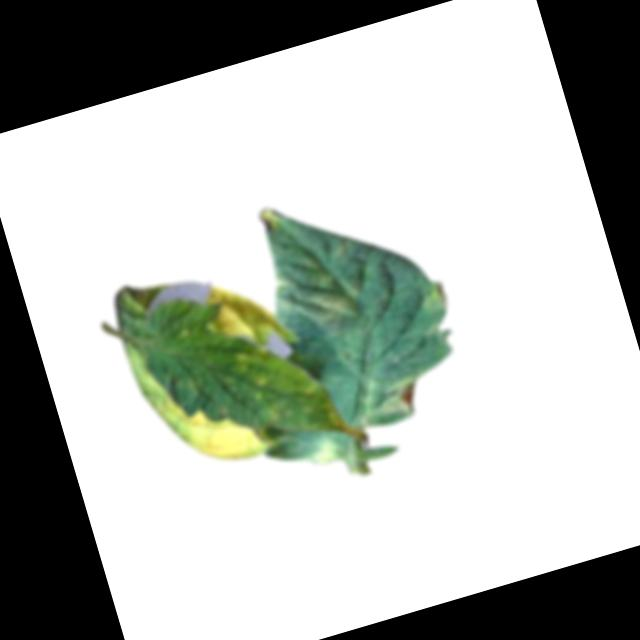Leaf_Mold: (245, 334, 344, 450), (161, 376, 269, 478), (203, 272, 279, 355), (305, 271, 365, 327), (369, 372, 424, 426), (413, 275, 452, 317), (308, 434, 343, 470)
